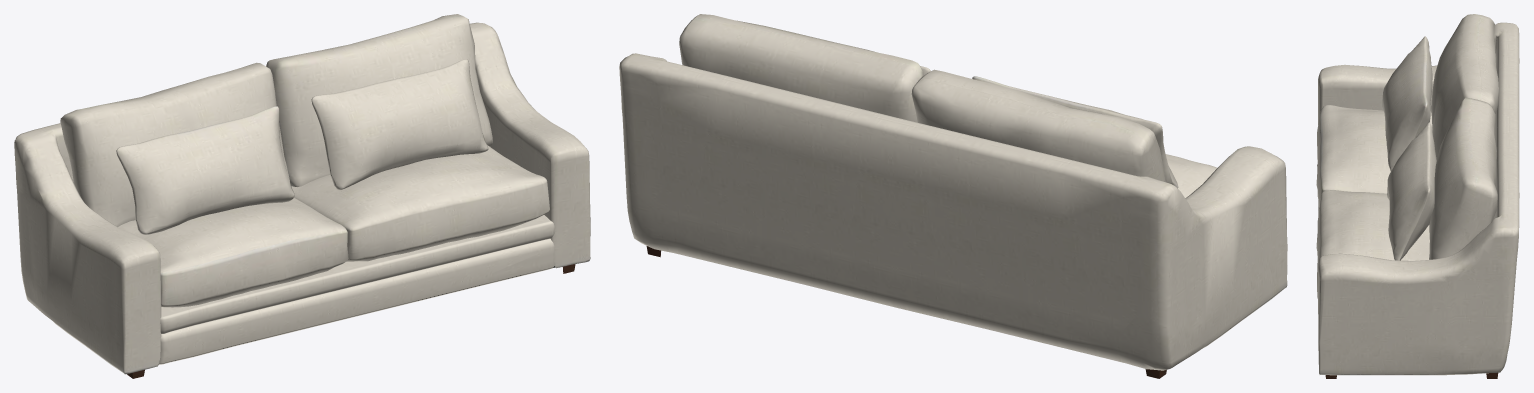
Rendered from sofa_abo_B07HZ5PF5S.glb.
The picture shows the model from 3 angles, left to right: view 1: azimuth 30°, elevation 25°; view 2: azimuth 150°, elevation 25°; view 3: azimuth 270°, elevation 25°; orthographic projection. The views are drawn at different scales.
Parts seen in each view (by area): view 1: RootNode; view 2: RootNode; view 3: RootNode.
Part boxes in pixels (x1,y1,x2,y2): RootNode: (14,14,590,378); RootNode: (619,14,1287,378); RootNode: (1316,14,1519,378).
Bounding box in the file's own units: 2.47 × 1.02 × 1.01.
1 material, 1 textured.
